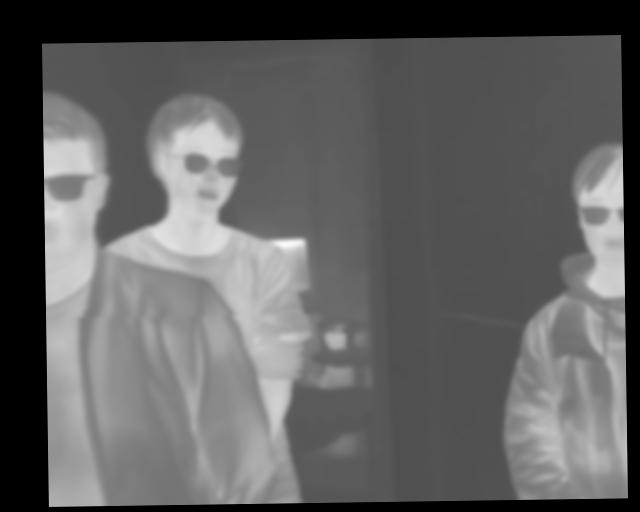face: (145, 88, 247, 212), (572, 141, 623, 262)
